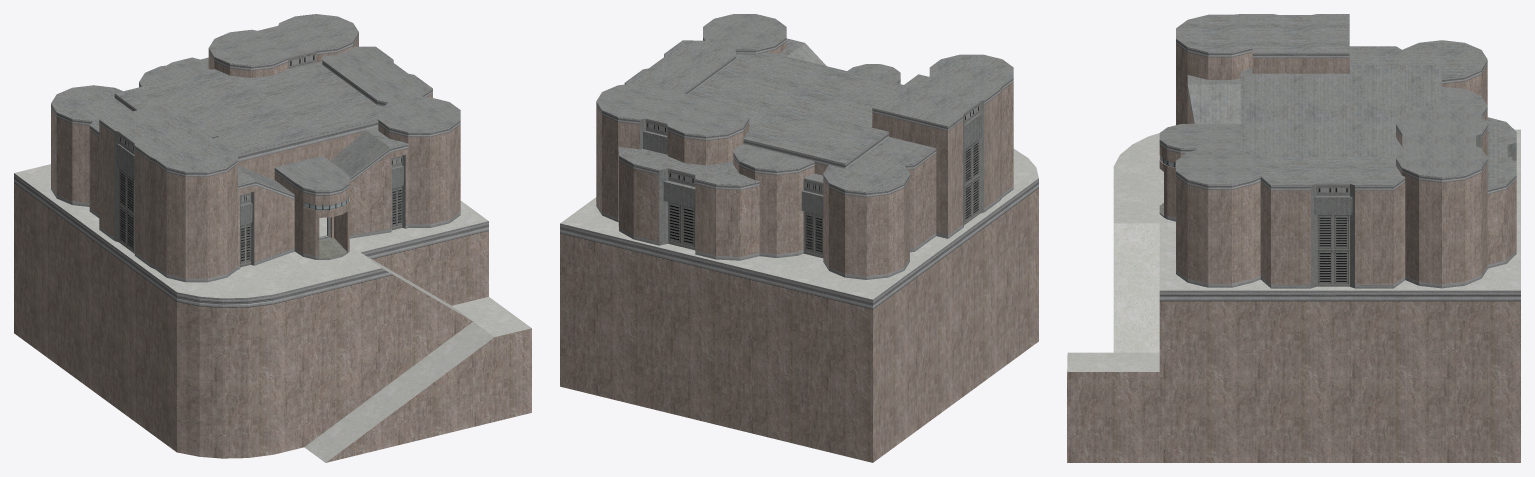
Rendered from ply_corl_house_lg_s01_fp1_r0_mesh_l1.fbx.
3 renders of one model, left to right at view 1: azimuth 30°, elevation 25°; view 2: azimuth 150°, elevation 25°; view 3: azimuth 270°, elevation 25°, orthographic. The views are drawn at different scales.
Parts seen in each view (by area): view 1: mesh_node; view 2: mesh_node; view 3: mesh_node.
Part boxes in pixels (x1,y1,x2,y2): mesh_node: (14, 14, 531, 462); mesh_node: (560, 14, 1038, 462); mesh_node: (1067, 14, 1520, 462).
Size of the model in its own units: 33.08 by 27.88 by 39.4.
